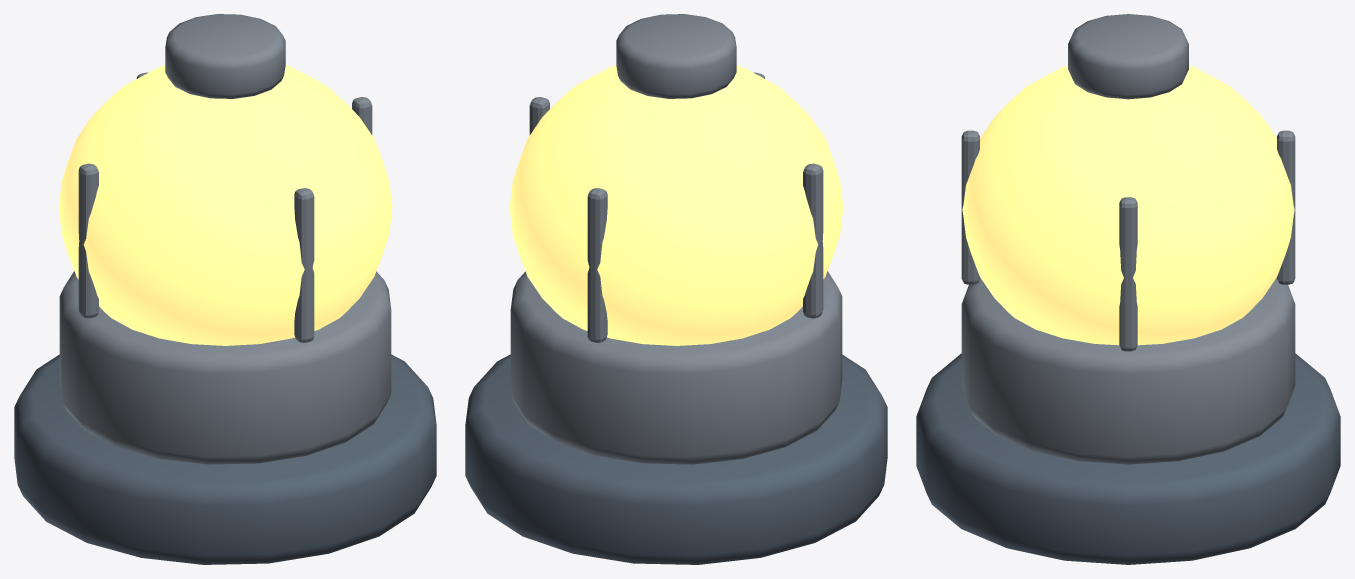
File: p1_amber_beacon.glb
3 views of the same model, side by side, from view 1: azimuth 30°, elevation 25°; view 2: azimuth 150°, elevation 25°; view 3: azimuth 270°, elevation 25° (orthographic).
Visible parts, largest first — view 1: dome, mount_base, collar, top_cap, rib_3, rib_2; view 2: dome, mount_base, collar, top_cap, rib_1, rib_2; view 3: dome, mount_base, collar, top_cap, rib_0, rib_1, rib_3.
Part boxes in pixels (box(x1,y1,x2,y2)): dome: box(58, 65, 392, 345); mount_base: box(14, 354, 436, 564); collar: box(59, 271, 391, 464); top_cap: box(165, 14, 285, 98); rib_3: box(294, 188, 314, 342); rib_2: box(78, 163, 98, 318); dome: box(509, 65, 843, 345); mount_base: box(465, 354, 887, 564); collar: box(510, 271, 842, 464); top_cap: box(616, 14, 736, 98); rib_1: box(587, 188, 607, 342); rib_2: box(803, 163, 823, 318); dome: box(962, 65, 1294, 345); mount_base: box(916, 353, 1340, 564); collar: box(961, 277, 1295, 464); top_cap: box(1068, 14, 1188, 99); rib_0: box(1119, 197, 1137, 351); rib_1: box(1277, 130, 1295, 284); rib_3: box(961, 130, 979, 284).
Bounding box in the file's own units: 0.14 × 0.1625 × 0.14.
